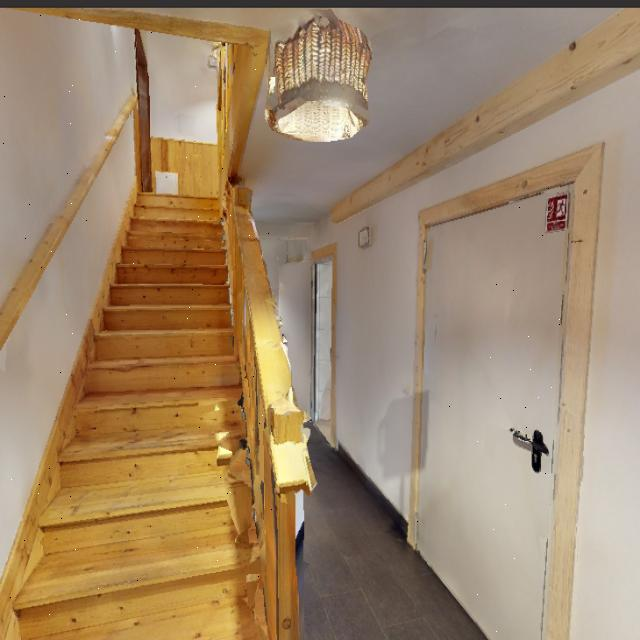door: (417, 183, 566, 640)
stairs: (0, 3, 274, 640)
